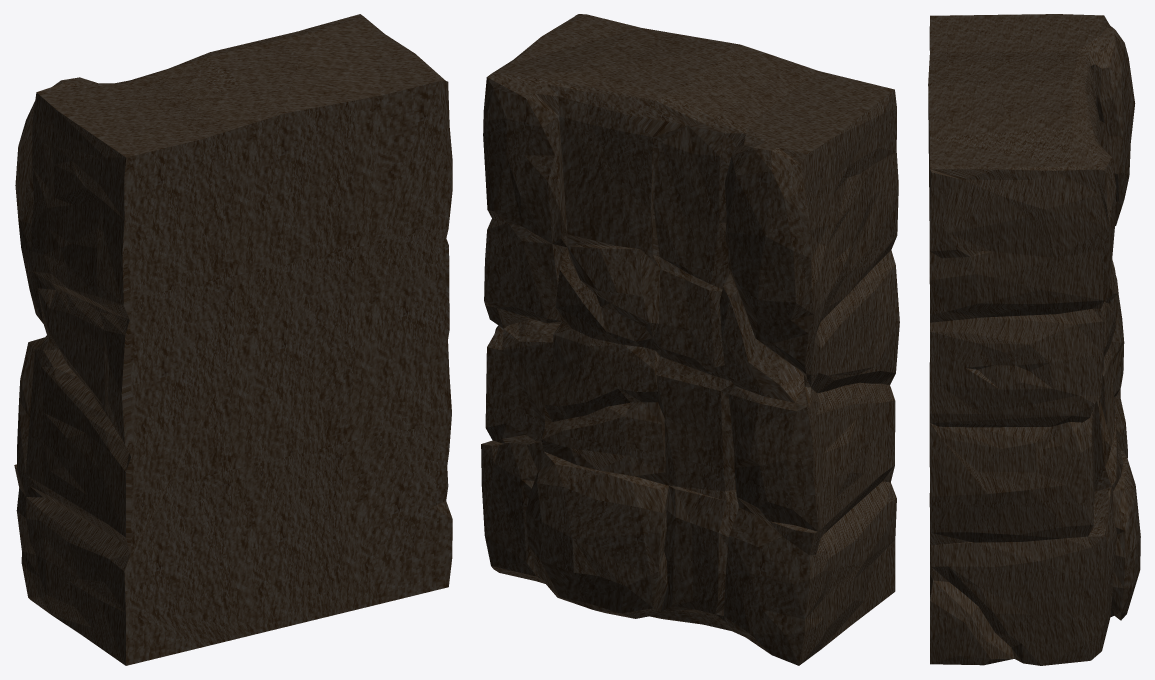
Rendered from cave-wall1_bkp.glb.
3 views of the same model, side by side, from view 1: azimuth 30°, elevation 25°; view 2: azimuth 150°, elevation 25°; view 3: azimuth 270°, elevation 25° (orthographic). The views are drawn at different scales.
Parts seen in each view (by area): view 1: Cube.001; view 2: Cube.001; view 3: Cube.001.
Part boxes in pixels (x1,y1,x2,y2): Cube.001: (14,14,452,665); Cube.001: (481,14,899,665); Cube.001: (928,14,1140,665).
Size of the model in its own units: 4.35 by 6.19 by 2.34.
1 material, 1 textured.
